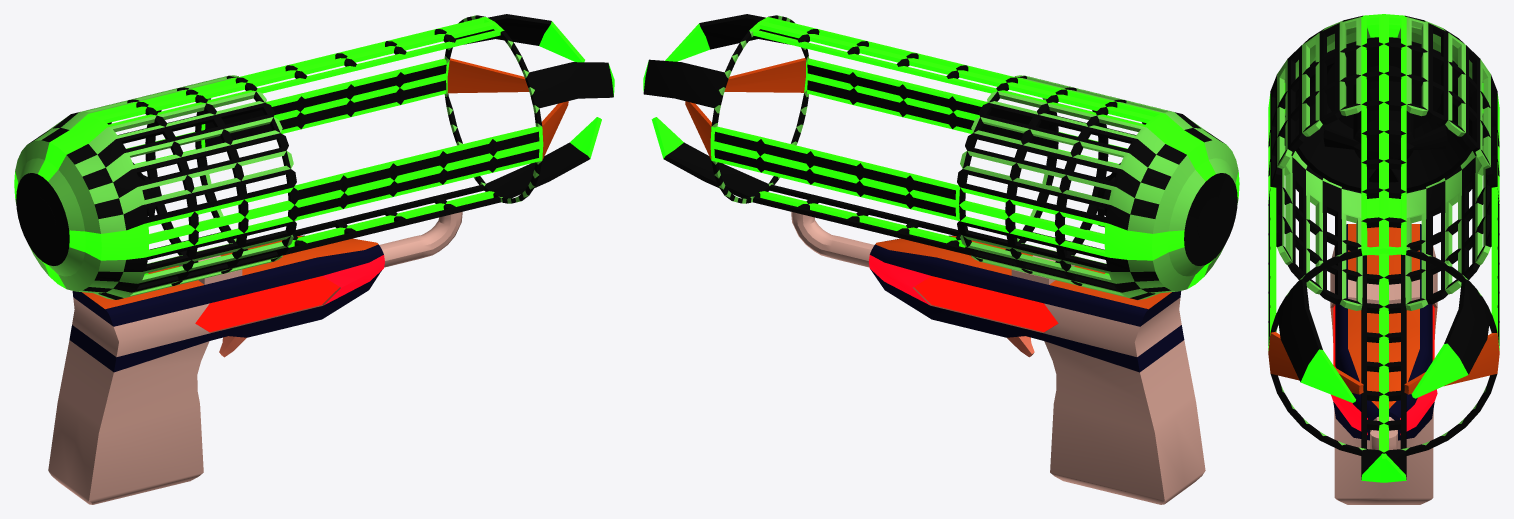
The model's file is (W) Laser Gun.fbx.
3 views of the same model, side by side, from view 1: azimuth 30°, elevation 25°; view 2: azimuth 150°, elevation 25°; view 3: azimuth 270°, elevation 25° (orthographic). The views are drawn at different scales.
Parts seen in each view (by area): view 1: Roll Cage Gun 2; view 2: Roll Cage Gun 2; view 3: Roll Cage Gun 2.
Part boxes in pixels (bbox=[...]): Roll Cage Gun 2: bbox=[14, 14, 614, 504]; Roll Cage Gun 2: bbox=[643, 14, 1239, 504]; Roll Cage Gun 2: bbox=[1268, 14, 1499, 504].
Size of the model in its own units: 1863 by 1178 by 555.
